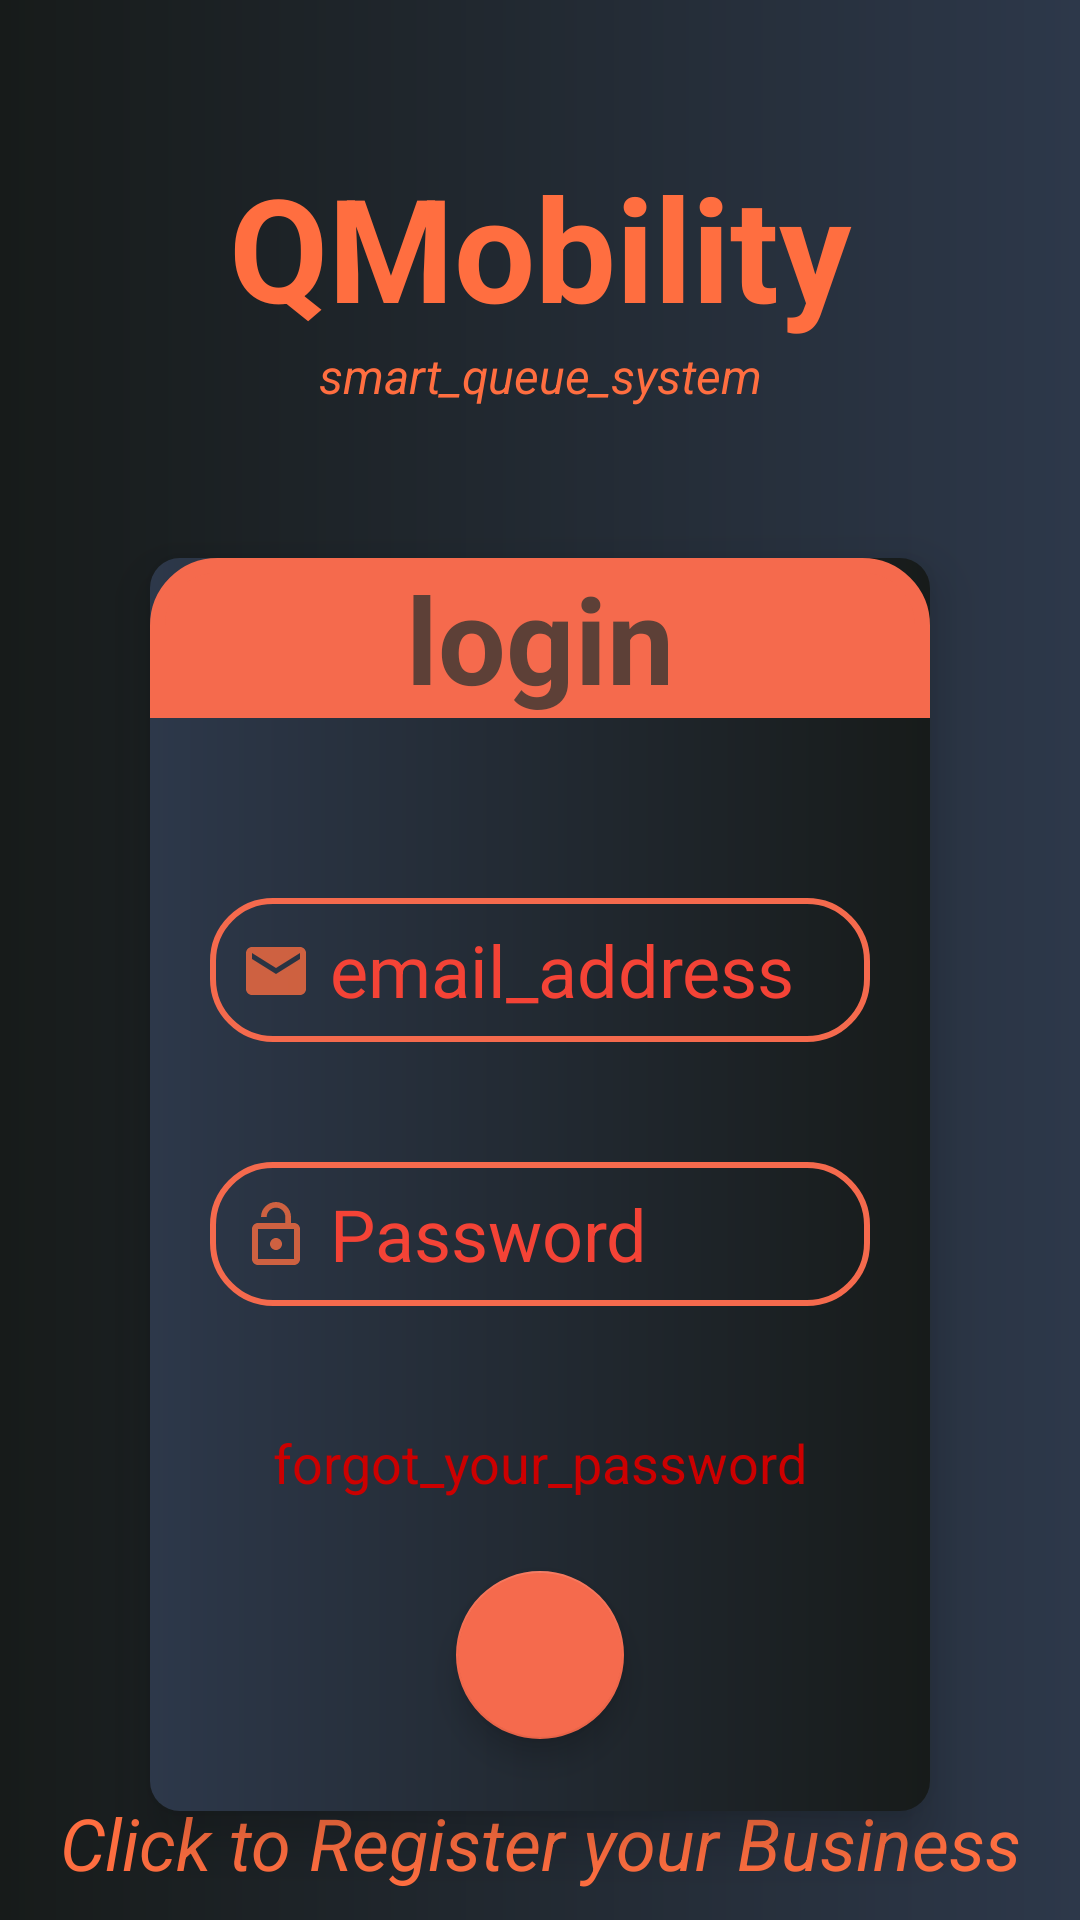

Named icons in this screenshot (1080×1920) and their centers, [x,y]:
lock open: [276,1233]
